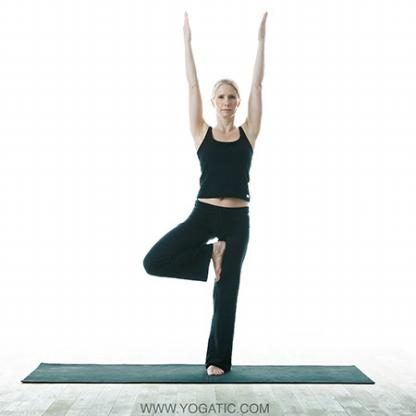tree: (139, 7, 283, 381)
